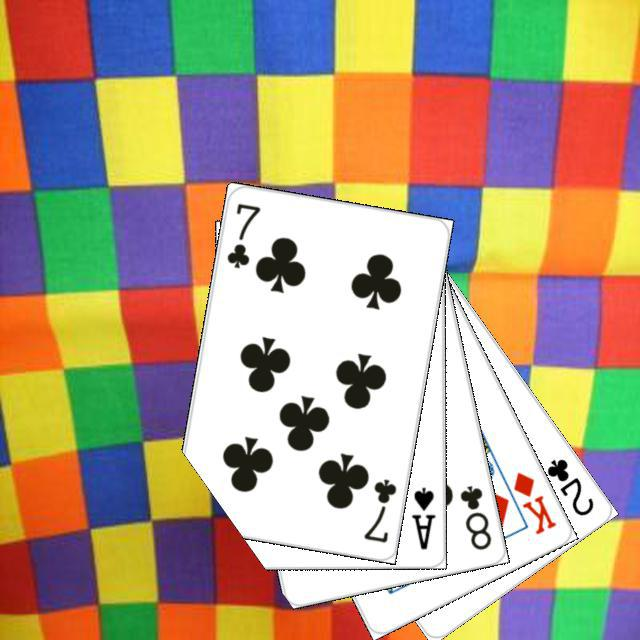2c: (541, 453, 596, 518)
7c: (222, 198, 262, 270), (358, 474, 398, 545)
8c: (455, 480, 493, 552)
As: (406, 482, 437, 551)
Kd: (508, 467, 558, 537)
